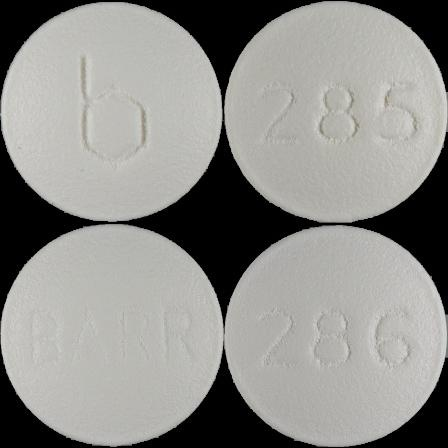0555-0285: (0, 0, 224, 224)
